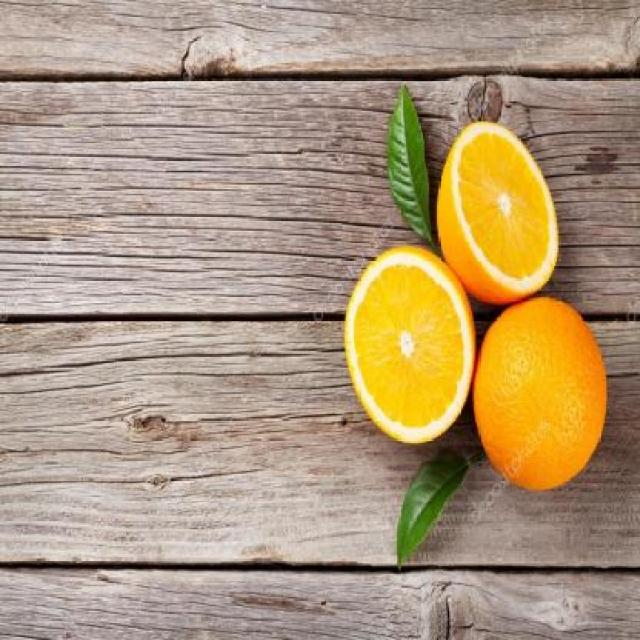Orange: (470, 294, 608, 491), (342, 243, 476, 445), (434, 118, 560, 304)
